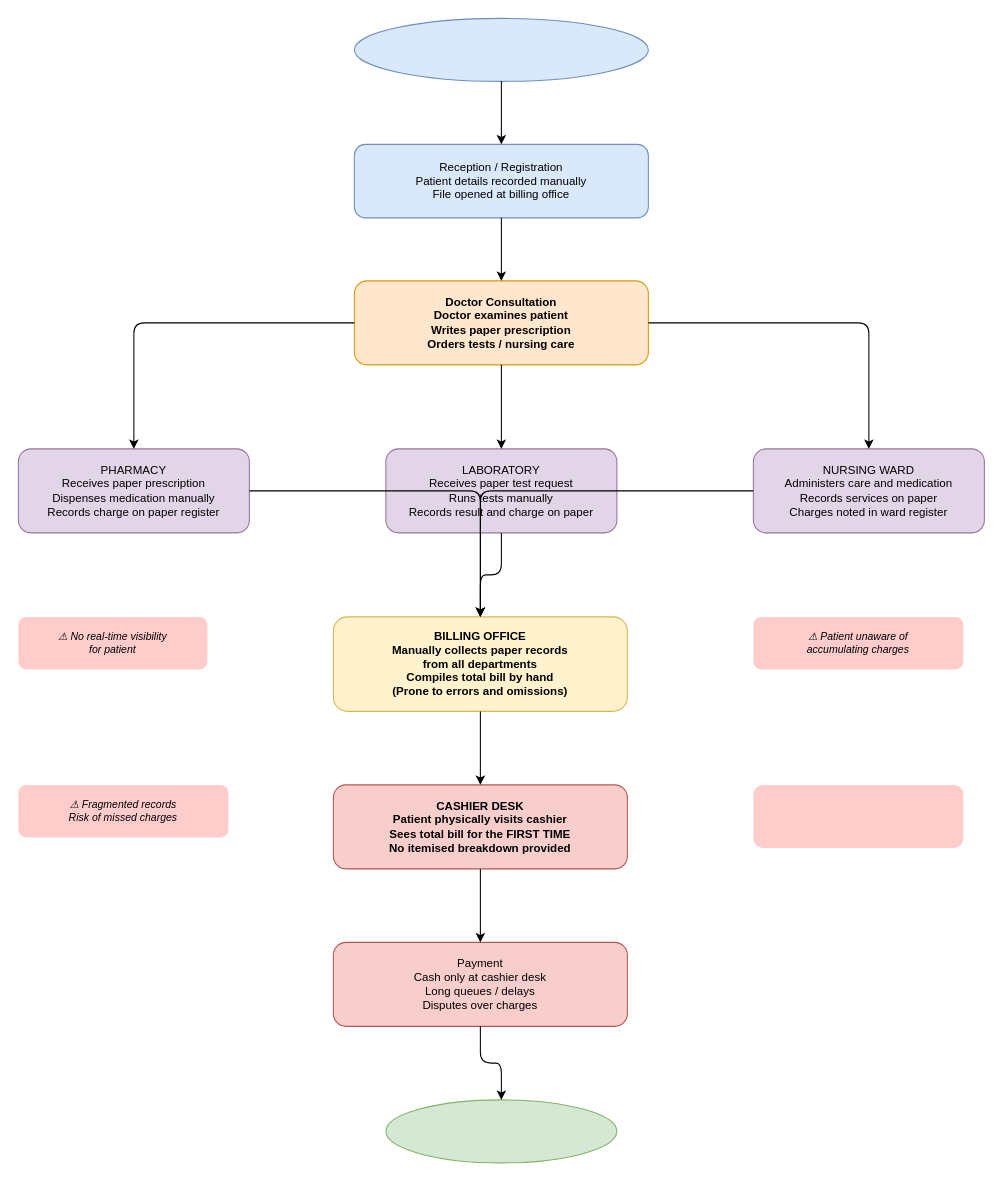
The diagram is 1003 pixels wide and 1181 high, and some of its shapes have lost their labels. The shapes that lost their labels are listed below. From the top down, each one's centre as x and y in pixels, then its label:
At [500,49]: "Patient Arrives at Polyfam Hospital".
At [858,815]: "⚠ Long queues Surprise totals No digital payment".
At [501,1131]: "Patient Discharged".
